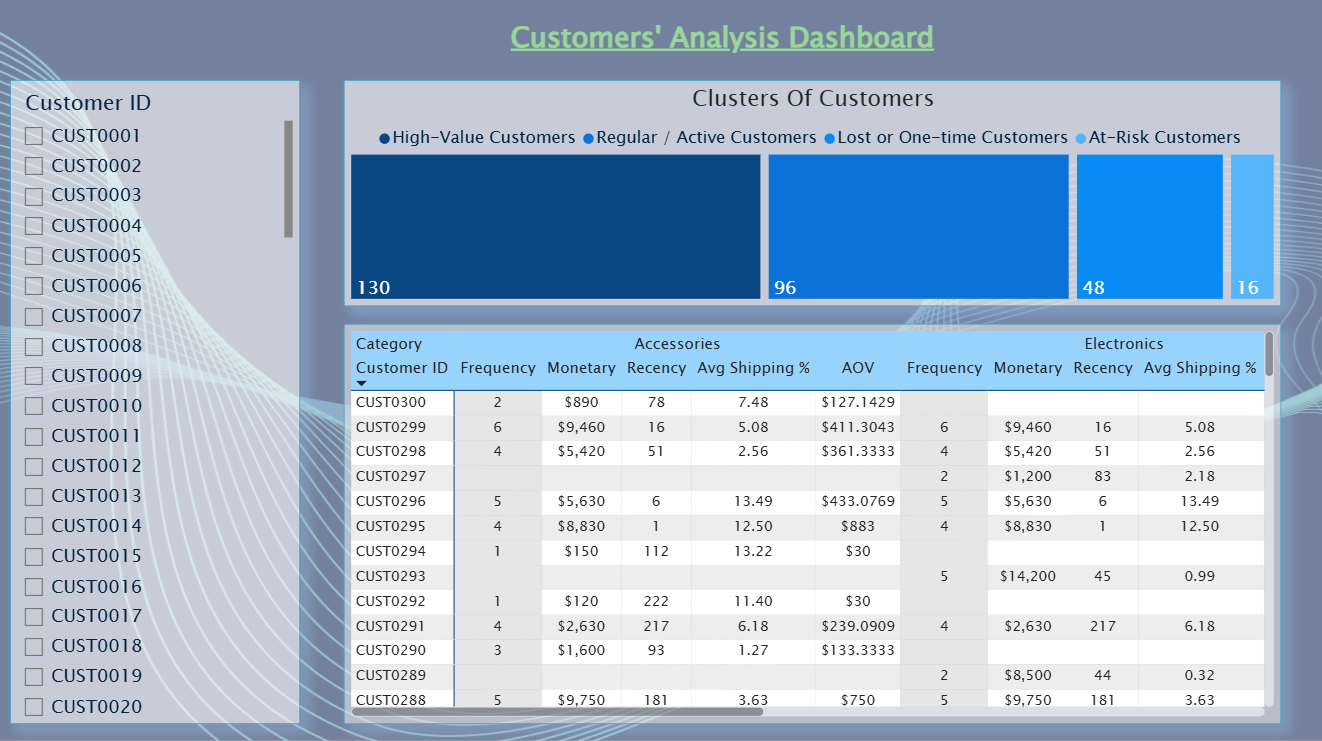

Layout of this report page (visuals, bound fields, positions):
{"tool":"powerbi","page":{"name":"Customers Insights","canvas":[1280,720],"ordinal":1},"visuals":[{"type":"slicer","fields":{"Values":["customers_summary.Customer ID"]},"box":[9.7,82,279.9,621.3],"z":0},{"type":"treemap","title":"Clusters Of Customers","fields":{"Group":["customers_summary.Cluster"],"Values":["CountNonNull(customers_summary.Customer ID)"]},"box":[331.8,82,904.8,218],"z":1000},{"type":"pivotTable","fields":{"Rows":["customers_summary.Customer ID"],"Values":["Sum(customers_summary.Frequency)","Sum(customers_summary.Monetary)","Sum(customers_summary.Recency)","Sum(customers_summary.Avg Shipping %)","Sum(customers_summary.AOV)"],"Columns":["cleaned_transactions.Category"]},"box":[331.8,317.3,904.8,386.1],"z":2000},{"type":"textbox","box":[469.3,15.7,456,66.4],"z":3000}]}

Visuals, with their boxes in screenshot pixels (x1, y1, x2, y2), scaled from the page's 1280x720 canvas onto the 1322x741 screenshot:
slicer - customers_summary.Customer ID: {"x1": 10, "y1": 84, "x2": 299, "y2": 724}
"Clusters Of Customers" treemap: {"x1": 343, "y1": 84, "x2": 1277, "y2": 309}
pivotTable - customers_summary.Customer ID x Sum(customers_summary.Frequency): {"x1": 343, "y1": 327, "x2": 1277, "y2": 724}
textbox: {"x1": 485, "y1": 16, "x2": 956, "y2": 84}
